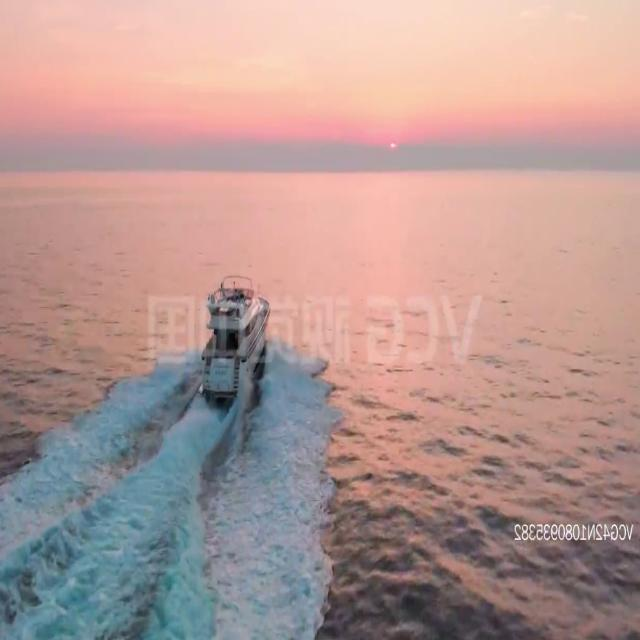houseboat: (197, 269, 270, 405)
